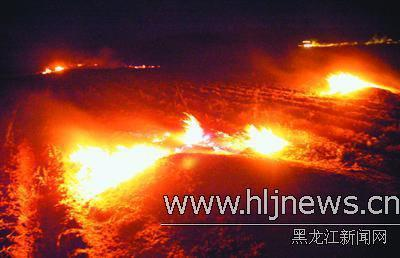fire: (52, 119, 308, 192), (317, 62, 397, 96), (35, 56, 159, 76)
